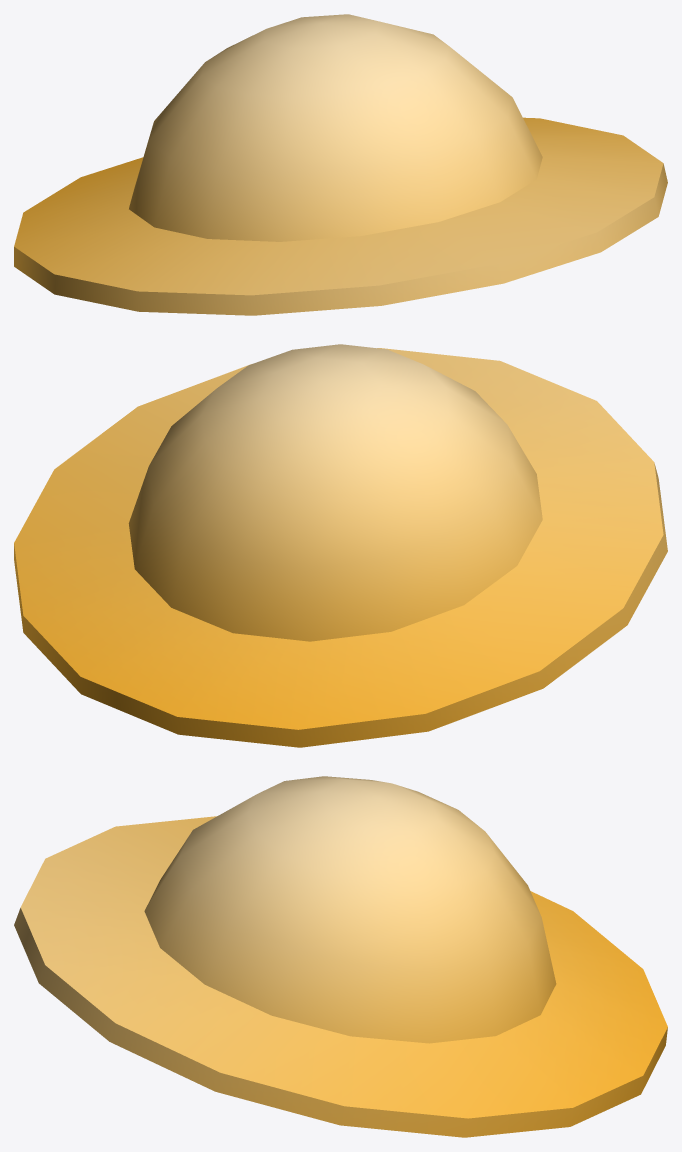
The model's file is Hat_39.glb.
The picture shows the model from 3 angles, top to bottom: view 1: azimuth 30°, elevation 25°; view 2: azimuth 150°, elevation 25°; view 3: azimuth 270°, elevation 25°; orthographic projection.
Parts seen in each view (by area): view 1: Hat_39; view 2: Hat_39; view 3: Hat_39.
Boxes of the visible parts, <box> form: Hat_39: <box>14,14,667,315</box>; Hat_39: <box>14,344,667,747</box>; Hat_39: <box>14,776,667,1137</box>.
Size of the model in its own units: 0.9811 by 0.406 by 0.9682.
1 material, 1 textured.
